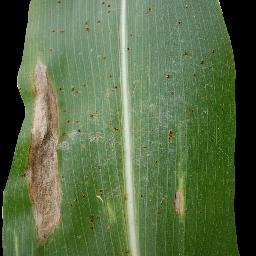Corn_Common_Rust: (7, 53, 75, 250), (74, 143, 131, 239), (162, 39, 230, 86), (159, 84, 201, 155), (67, 54, 123, 95), (79, 0, 128, 45), (159, 154, 192, 220), (71, 99, 117, 146), (176, 0, 227, 38), (37, 23, 71, 57), (119, 76, 152, 107), (124, 32, 149, 69), (139, 160, 154, 214), (51, 0, 76, 18), (142, 2, 160, 26), (107, 248, 147, 256), (123, 37, 125, 38)
